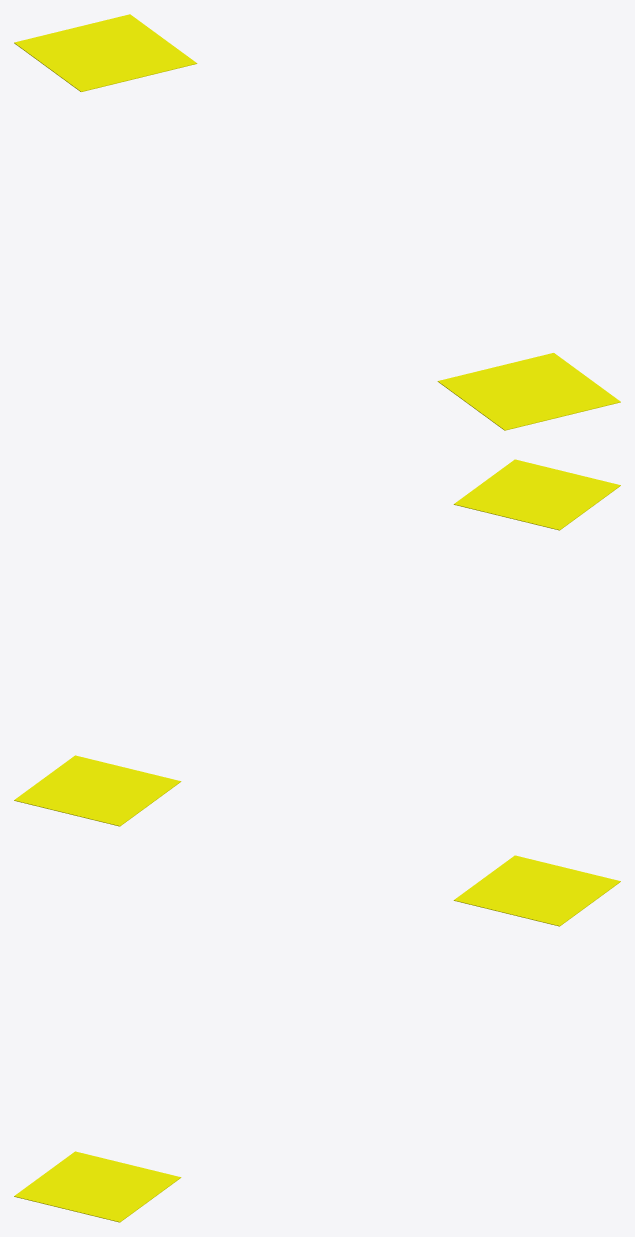
File: goal.dae
The picture shows the model from 3 angles, top to bottom: view 1: azimuth 30°, elevation 25°; view 2: azimuth 150°, elevation 25°; view 3: azimuth 330°, elevation 25°; orthographic projection. The views are drawn at different scales.
Visible parts, largest first — view 1: node0; view 2: node0; view 3: node0.
Part boxes in pixels (bbox=[...]): node0: bbox=[14, 14, 620, 430]; node0: bbox=[14, 459, 620, 826]; node0: bbox=[14, 855, 620, 1222].
Size of the model in its own units: 0.25 by 1.55 by 0.001.
